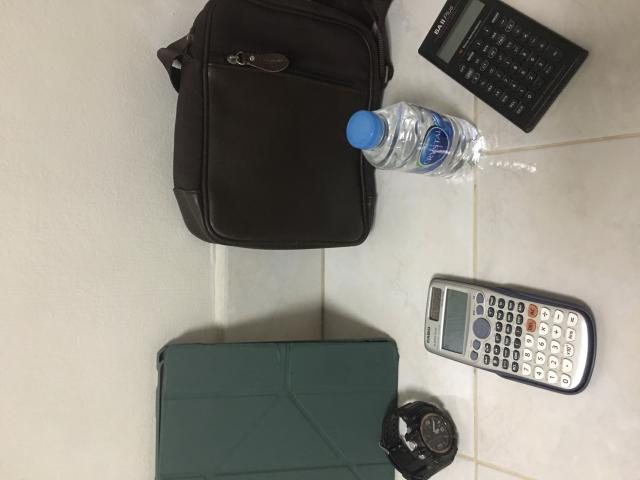Watch: (380, 401, 458, 480)
bottle: (346, 102, 482, 178)
